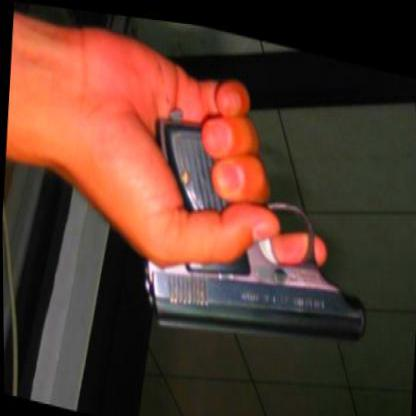pistol: (135, 104, 377, 368)
